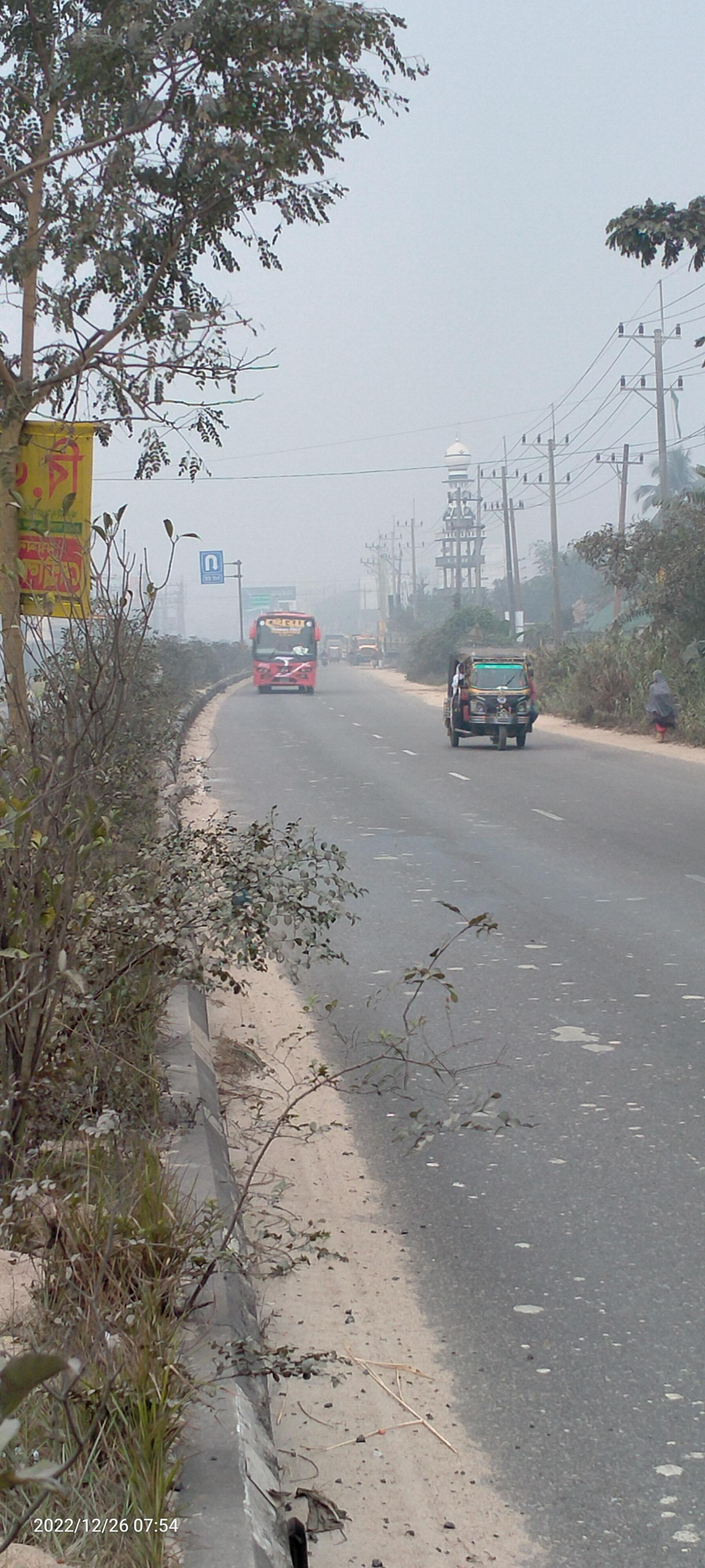Bus: (243, 605, 326, 701)
Car: (326, 640, 344, 669)
